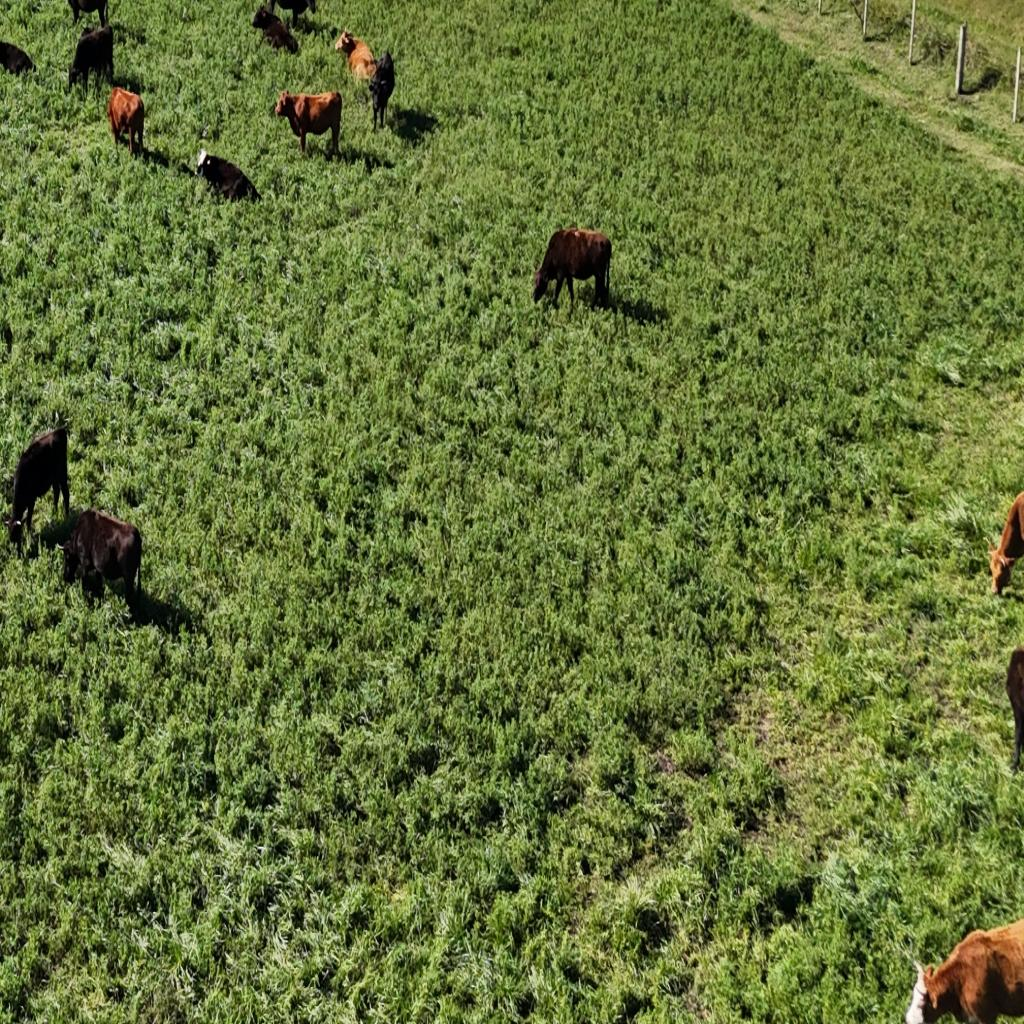cow: (904, 912, 1024, 1024), (56, 509, 141, 611), (4, 426, 71, 550), (532, 222, 614, 320), (275, 85, 342, 159), (985, 488, 1024, 598), (195, 150, 261, 206), (68, 23, 114, 99), (106, 84, 145, 160), (1004, 646, 1024, 774), (334, 28, 379, 82), (251, 5, 298, 55), (368, 48, 395, 132), (0, 39, 36, 79), (2, 0, 42, 35), (66, 0, 110, 30), (272, 0, 316, 30), (251, 4, 274, 30)
